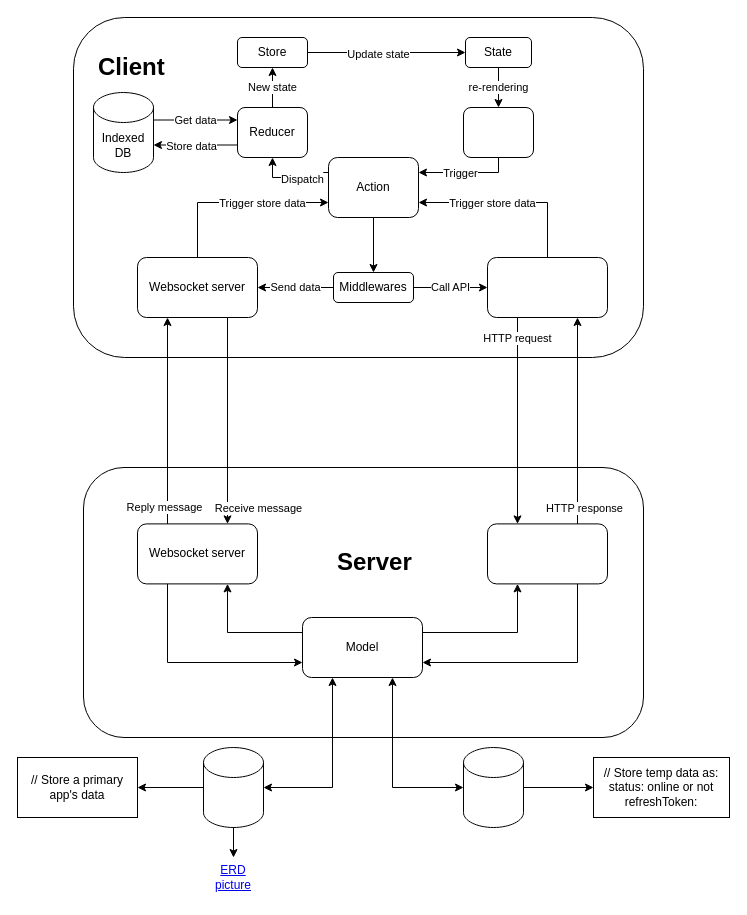
This 747x915 diagram has some shape labels left out. The shapes that lost their labels are listed below. From the top down, each one's centre as x and y in pixels, then its label:
At point 498,132: "UI".
At point 547,287: "AxiosClient".
At point 547,553: "Controller".
At point 233,787: "MySQl".
At point 493,787: "Redis Cahce".
